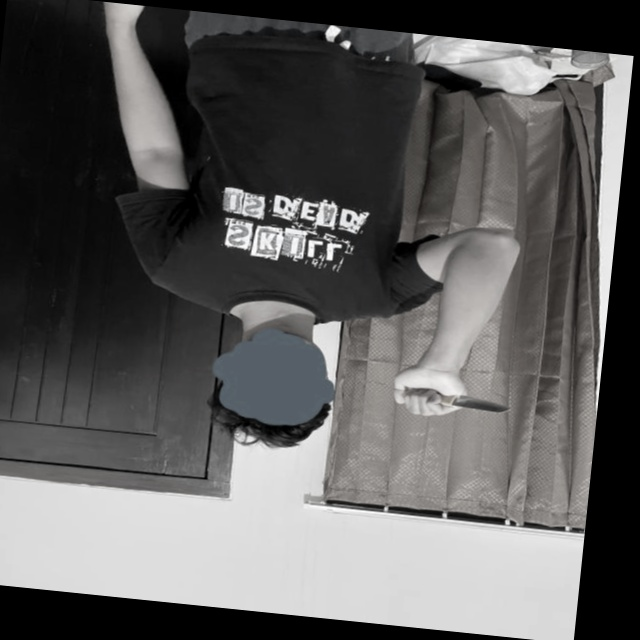Sharp-Object: (400, 389, 512, 416)
